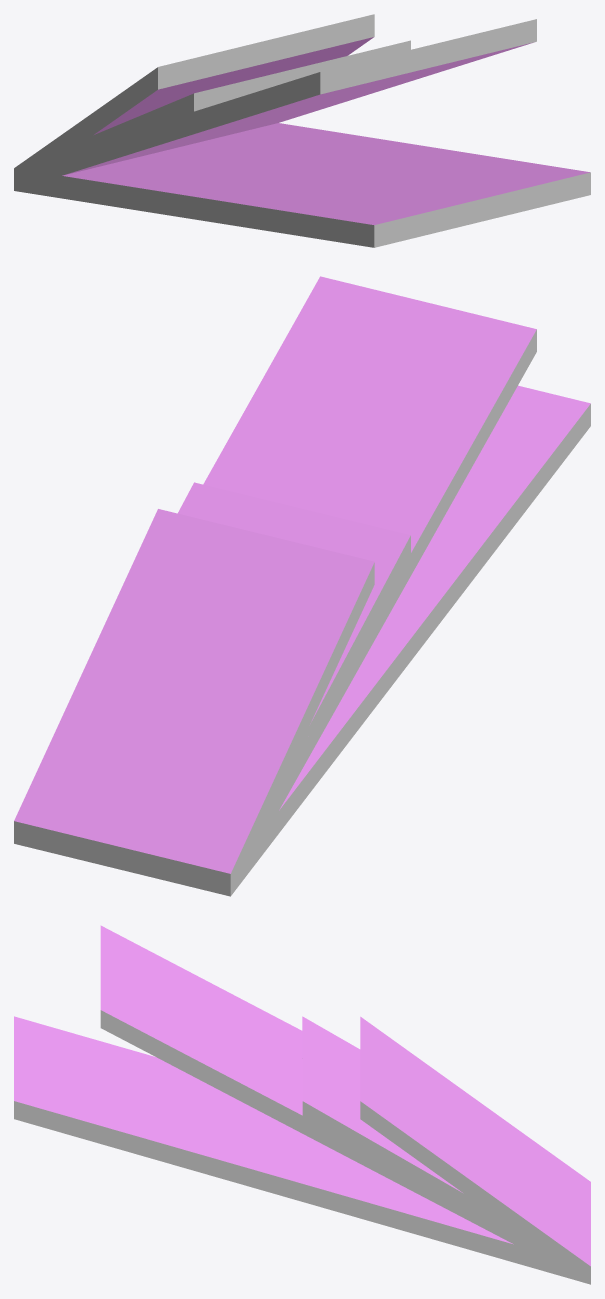
Rendered from Slope.fbx.
3 renders of one model, top to bottom at view 1: azimuth 30°, elevation 25°; view 2: azimuth 150°, elevation 25°; view 3: azimuth 270°, elevation 25°, orthographic. The views are drawn at different scales.
Visible parts, largest first — view 1: Slope4, Slope3, Slope2, Slope; view 2: Slope2, Slope3, Slope4, Slope; view 3: Slope4, Slope2, Slope3, Slope.
Boxes of the visible parts, x1,y1,x2,y2 form: Slope4: (14, 123, 590, 247); Slope3: (14, 19, 536, 189); Slope2: (14, 14, 374, 189); Slope: (14, 40, 410, 190); Slope2: (14, 509, 374, 894); Slope3: (14, 276, 536, 895); Slope4: (14, 385, 590, 895); Slope: (14, 482, 410, 896); Slope4: (14, 1016, 590, 1284); Slope2: (360, 1016, 590, 1283); Slope3: (100, 925, 590, 1283); Slope: (302, 1016, 590, 1284).
Bounding box in the file's own units: 2.5 × 3.78 × 7.2.
